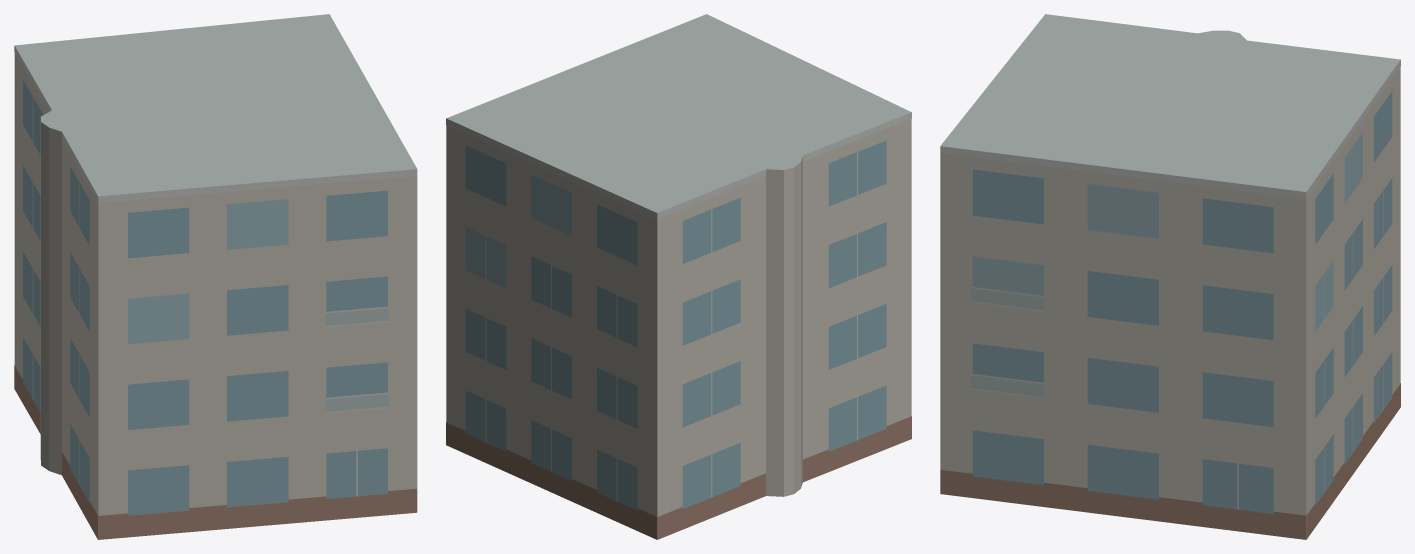
The model's file is survey-upis-32879350.glb.
The picture shows the model from 3 angles, left to right: view 1: azimuth 30°, elevation 25°; view 2: azimuth 150°, elevation 25°; view 3: azimuth 270°, elevation 25°; orthographic projection. The views are drawn at different scales.
Parts seen in each view (by area): view 1: survey-upis-32879350.tmp; view 2: survey-upis-32879350.tmp; view 3: survey-upis-32879350.tmp.
Boxes of the visible parts, x1,y1,x2,y2 form: survey-upis-32879350.tmp: [14, 14, 417, 539]; survey-upis-32879350.tmp: [446, 14, 911, 539]; survey-upis-32879350.tmp: [940, 14, 1400, 539].
Bounding box in the file's own units: 13.29 × 12.1 × 14.53.
